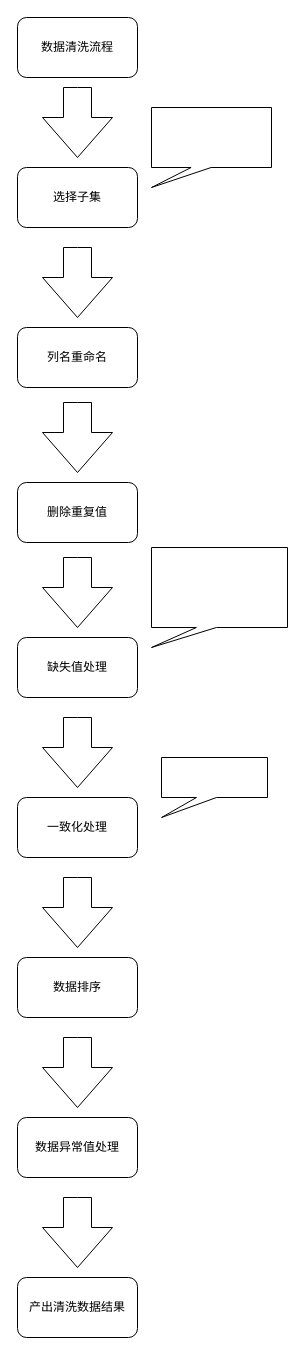
Image size: 305x1355. Some labels were removed from this diagram. The box of each missing label's shape, as (x1, y1, x2, y2) in pixels:
1.人工补全缺失值 2.删除缺失值 3.平均值代替缺失值 4.默认值代替缺失值: (150, 546, 288, 648)
对不需要的数据选择隐藏: (150, 106, 272, 188)
数据是否统一的标准或者命名: (160, 756, 268, 818)
